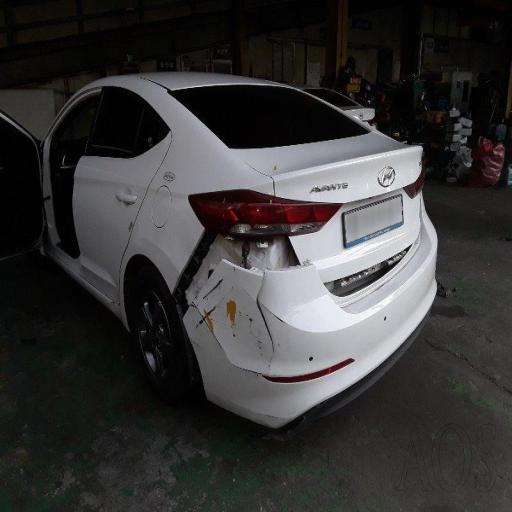broken: (156, 160, 380, 401)
